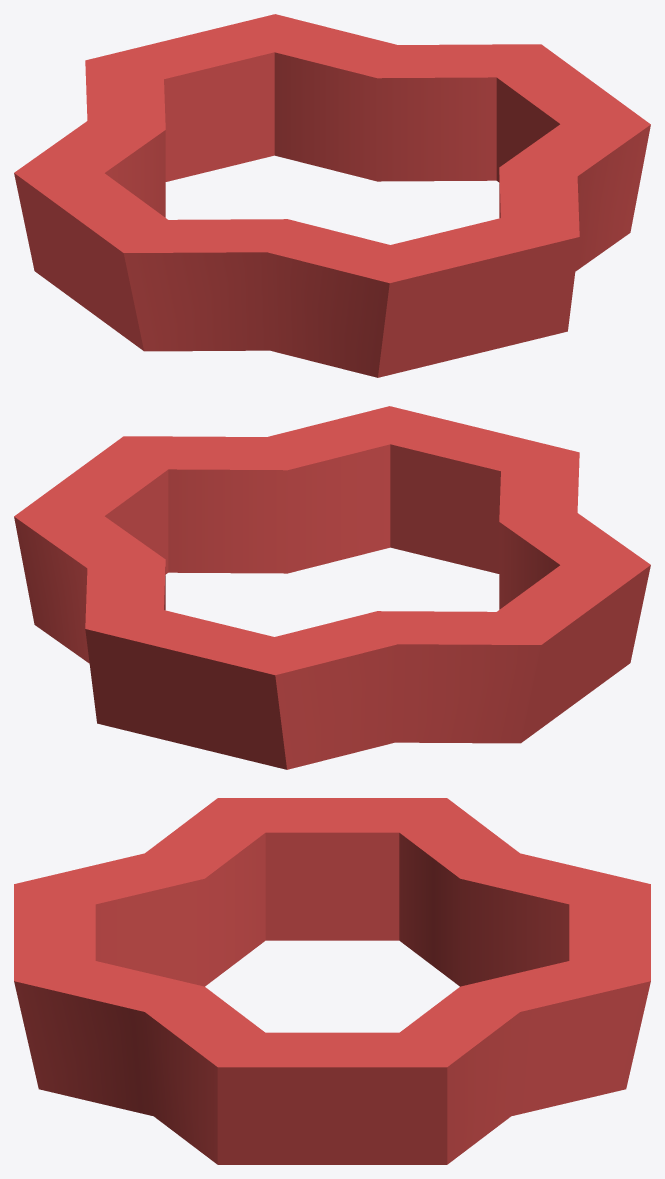
The model's file is paprikaSlice.GLB.
3 views of the same model, one above another, from view 1: azimuth 30°, elevation 25°; view 2: azimuth 150°, elevation 25°; view 3: azimuth 270°, elevation 25° (orthographic). The views are drawn at different scales.
Visible parts, largest first — view 1: paprikaSlice; view 2: paprikaSlice; view 3: paprikaSlice.
Part boxes in pixels (bbox=[...]): paprikaSlice: bbox=[14, 14, 650, 377]; paprikaSlice: bbox=[14, 406, 650, 769]; paprikaSlice: bbox=[14, 798, 650, 1164].
Size of the model in its own units: 0.1602 by 0.03 by 0.1602.
